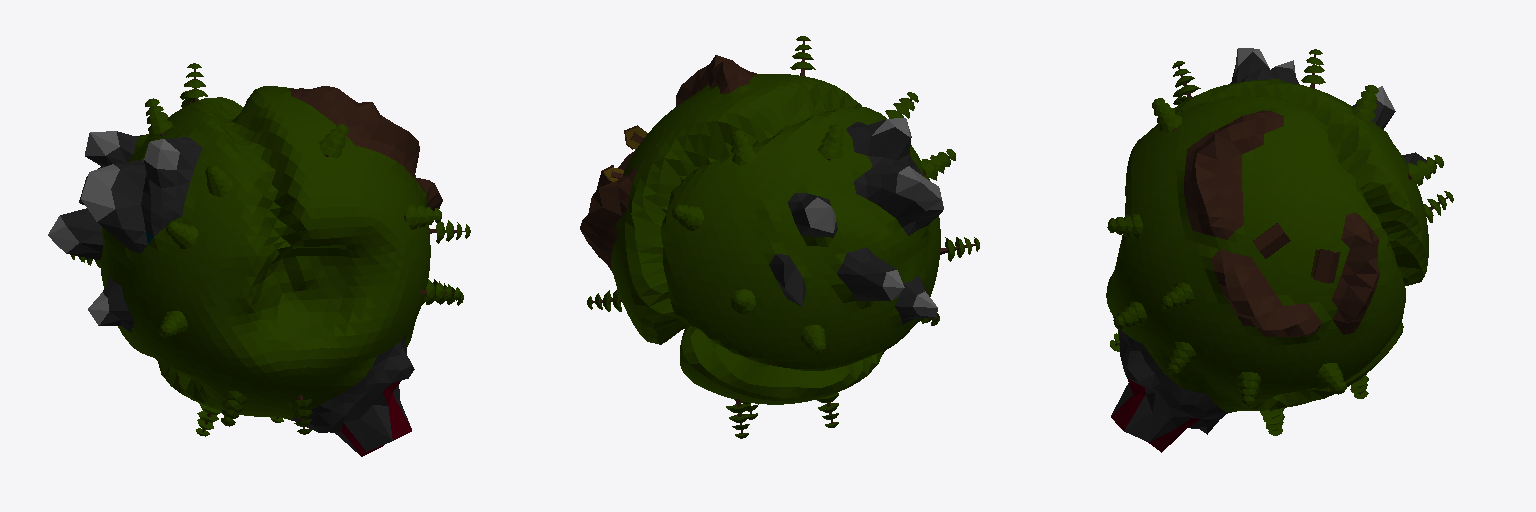
3 renders of one model, left to right at view 1: azimuth 30°, elevation 25°; view 2: azimuth 150°, elevation 25°; view 3: azimuth 270°, elevation 25°, orthographic.
Parts seen in each view (by area): view 1: World_Icosphere, Cube.008_Cube.014, Cube.007_Cube.013, Cube.017_Cube.024, Cube.027_Cube.035, Cube.010_Cube.017, Cube.009_Cube.016, Cube.011_Cube.018; view 2: World_Icosphere, Cube.017_Cube.024, Cube.018_Cube.025, Cube.019_Cube.026, Cube.010_Cube.017, Cube.021_Cube.029; view 3: World_Icosphere, Cube.001_Cube.007, Cube_Cube.006, Cube.007_Cube.013, Cube.008_Cube.014, Cube.003_Cube.009, Cube.005_Cube.011, Cube.004_Cube.010, Cube.002_Cube.008, Cube.006_Cube.012, Cube.018_Cube.025, Cube.019_Cube.026.
Boxes of the visible parts, <box> form: World_Icosphere: <box>48,86,442,456</box>; Cube.008_Cube.014: <box>319,124,348,158</box>; Cube.007_Cube.013: <box>404,205,441,229</box>; Cube.017_Cube.024: <box>145,98,172,136</box>; Cube.027_Cube.035: <box>221,391,247,426</box>; Cube.010_Cube.017: <box>166,221,197,248</box>; Cube.009_Cube.016: <box>205,165,232,196</box>; Cube.011_Cube.018: <box>159,311,187,337</box>; World_Icosphere: <box>580,55,943,404</box>; Cube.017_Cube.024: <box>817,124,843,160</box>; Cube.018_Cube.025: <box>730,130,756,165</box>; Cube.019_Cube.026: <box>672,205,703,230</box>; Cube.010_Cube.017: <box>921,149,955,180</box>; Cube.021_Cube.029: <box>801,325,825,354</box>; World_Icosphere: <box>1106,48,1428,452</box>; Cube.001_Cube.007: <box>1311,249,1340,283</box>; Cube_Cube.006: <box>1253,223,1290,258</box>; Cube.007_Cube.013: <box>1107,214,1143,238</box>; Cube.008_Cube.014: <box>1152,98,1181,132</box>; Cube.003_Cube.009: <box>1167,342,1196,374</box>; Cube.005_Cube.011: <box>1113,302,1147,329</box>; Cube.004_Cube.010: <box>1236,372,1260,406</box>; Cube.002_Cube.008: <box>1316,363,1346,394</box>; Cube.006_Cube.012: <box>1161,282,1194,309</box>; Cube.018_Cube.025: <box>1352,85,1378,120</box>; Cube.019_Cube.026: <box>1408,155,1443,185</box>.
Size of the model in its own units: 36.5 by 33.88 by 31.47.
3 materials, 1 textured.